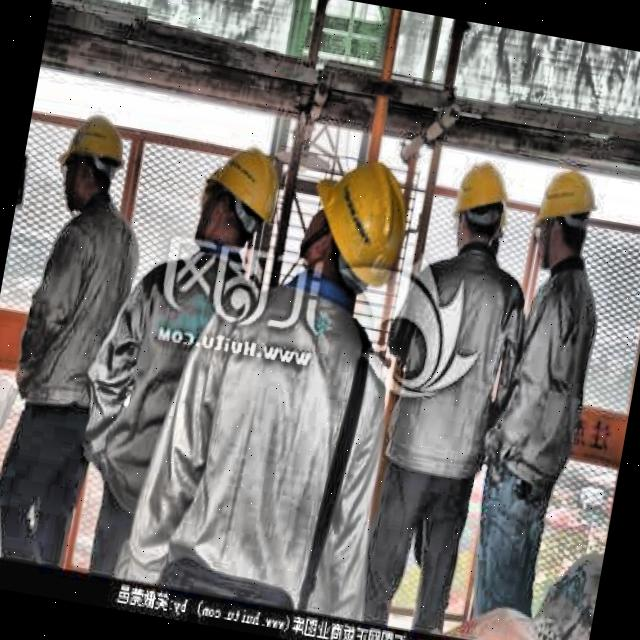helmet: (282, 140, 418, 310), (180, 131, 292, 271), (41, 109, 132, 225), (522, 158, 604, 284), (442, 156, 519, 266)
